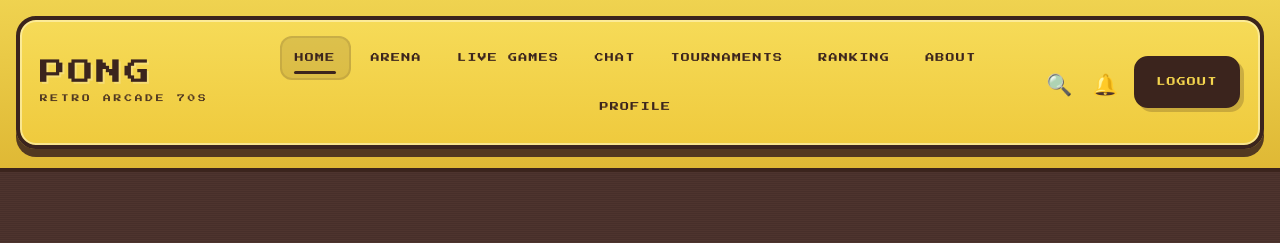
it: Navbar — bell and DM badge › debounces user search and renders dropdown results
Click the button named "open user search".
click(1059, 82)  # box top-left (1042, 68), bottom-right (1076, 97)
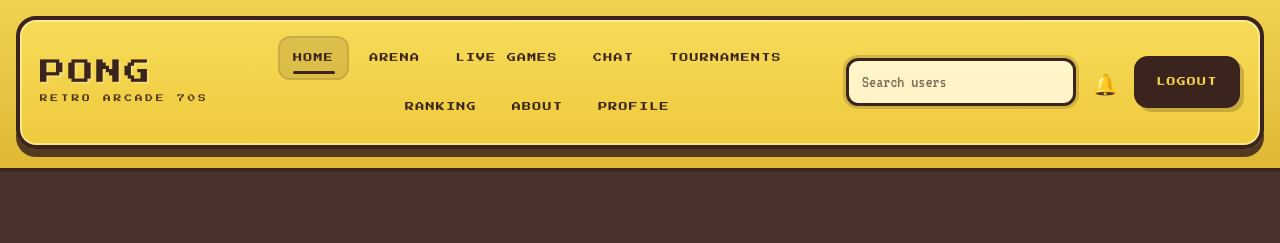
Type "ali" into the search field labelled "Search users".
click(961, 82); type("ali")  # box top-left (846, 58), bottom-right (1076, 106)
Wait 300 ms
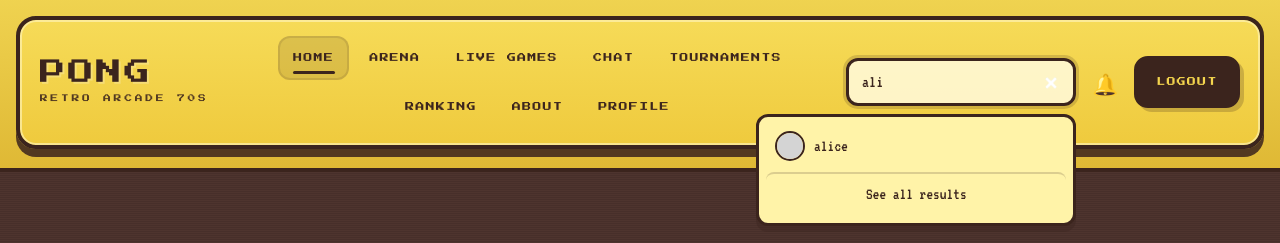
Result: the text "alice" is shown at top-left (814, 138), bottom-right (848, 154)
